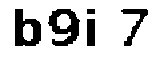b: (11, 5, 42, 47)
